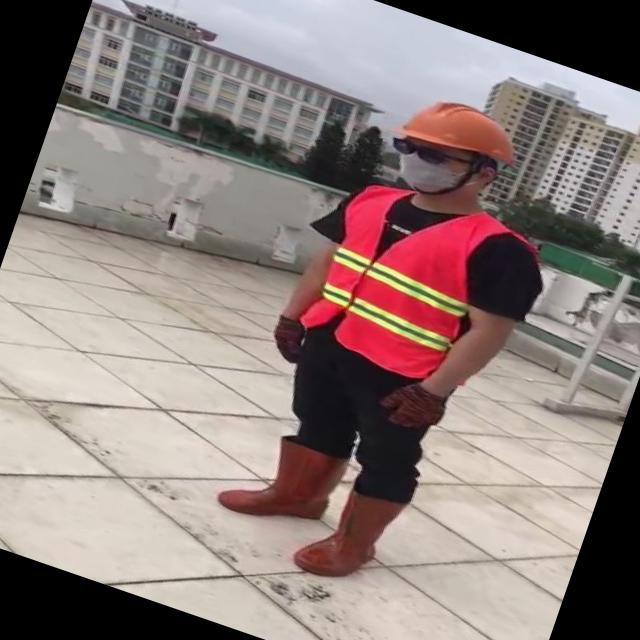hard_hat: (389, 79, 527, 175)
safety_vest: (296, 168, 508, 388)
vehicle: (189, 60, 599, 614)
work_boots: (214, 421, 348, 540), (287, 475, 403, 596)
